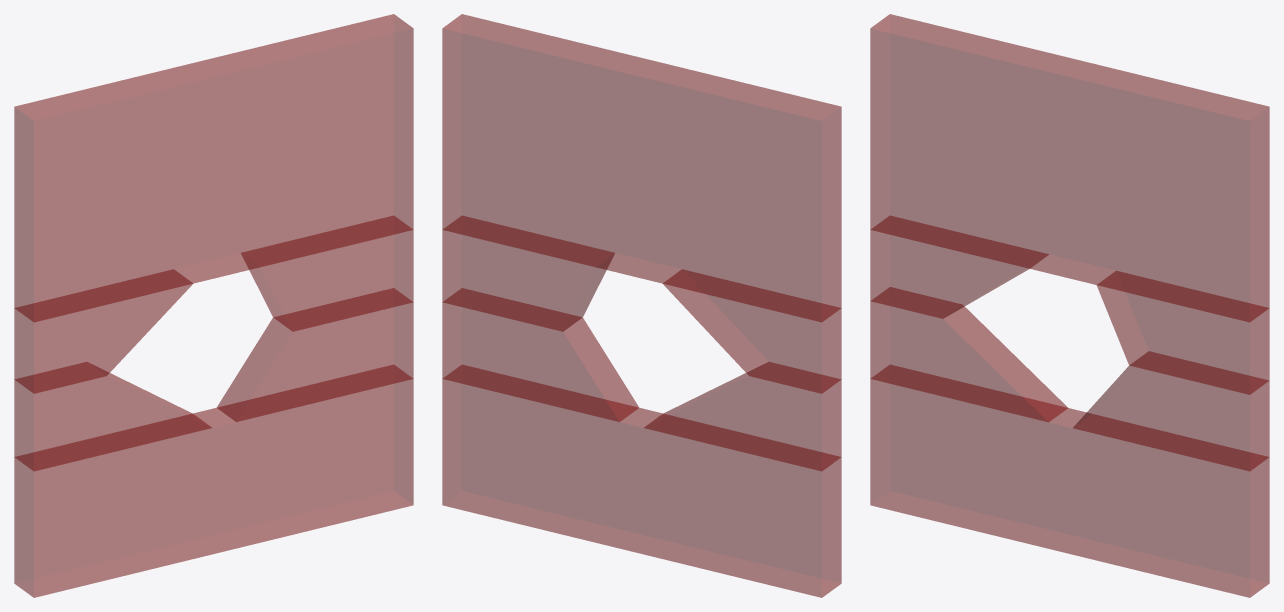
Rendered from SM_Bld_Wall_Hole_02_Collision.fbx.
3 views of the same model, side by side, from view 1: azimuth 30°, elevation 25°; view 2: azimuth 150°, elevation 25°; view 3: azimuth 330°, elevation 25° (orthographic).
Parts seen in each view (by area): view 1: SM_Bld_Wall_Hole_02_Collision; view 2: SM_Bld_Wall_Hole_02_Collision; view 3: SM_Bld_Wall_Hole_02_Collision.
Boxes of the visible parts, x1,y1,x2,y2 form: SM_Bld_Wall_Hole_02_Collision: [14, 14, 413, 597]; SM_Bld_Wall_Hole_02_Collision: [442, 14, 841, 597]; SM_Bld_Wall_Hole_02_Collision: [870, 14, 1269, 597].
Size of the model in its own units: 250 by 300 by 22.5.
